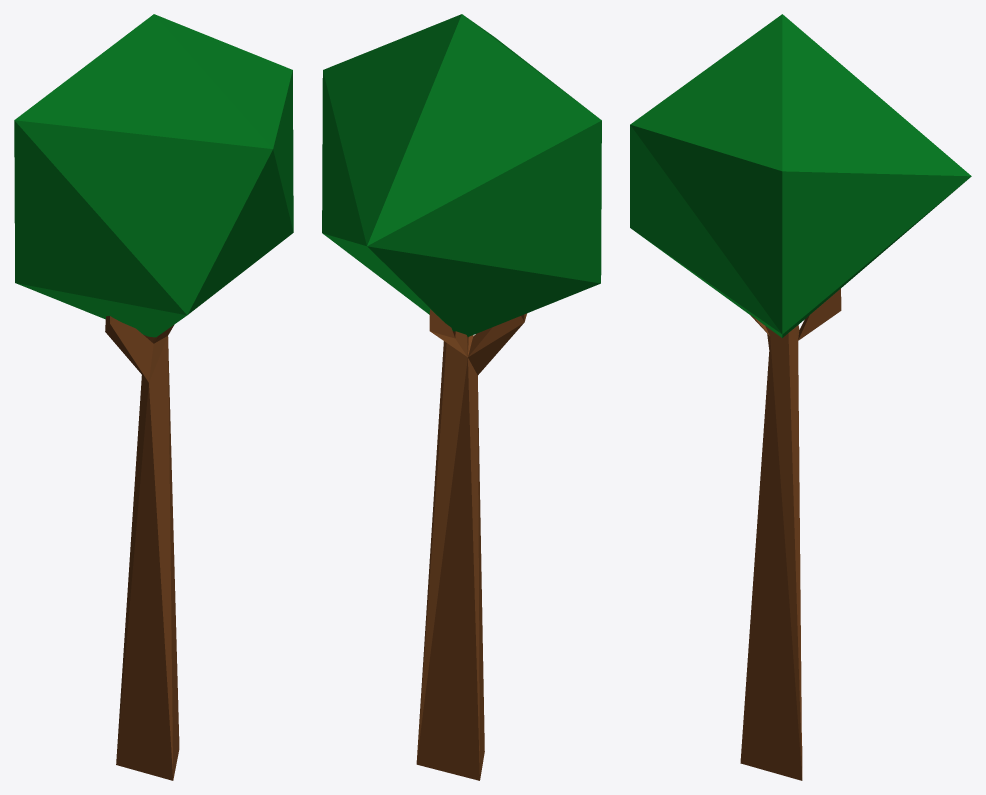
The model's file is Model_Drzewo32.fbx.
3 views of the same model, side by side, from view 1: azimuth 30°, elevation 25°; view 2: azimuth 150°, elevation 25°; view 3: azimuth 270°, elevation 25° (orthographic).
Visible parts, largest first — view 1: Icosphere.002; view 2: Icosphere.002; view 3: Icosphere.002.
Boxes of the visible parts, x1,y1,x2,y2 form: Icosphere.002: (14, 14, 293, 780); Icosphere.002: (322, 14, 601, 780); Icosphere.002: (630, 14, 971, 780).
Size of the model in its own units: 327 by 792 by 308.
